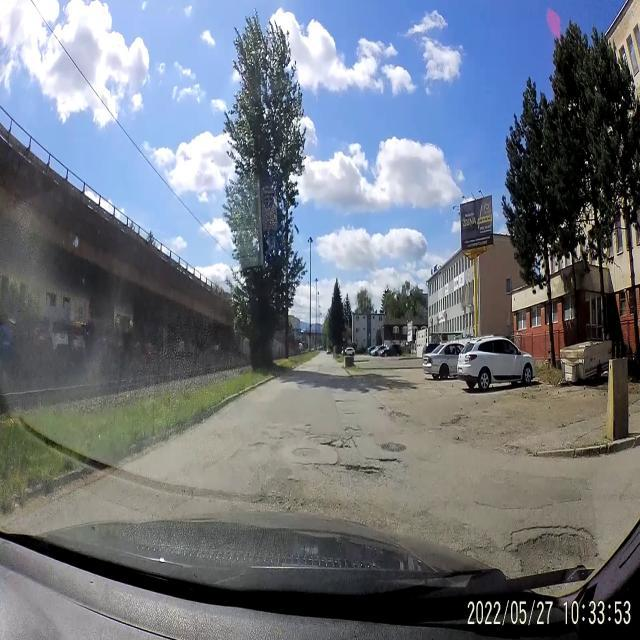Manhole: (380, 436, 408, 458)
Pothole: (508, 518, 596, 572), (337, 460, 385, 480), (292, 443, 320, 465), (304, 428, 331, 446), (331, 436, 353, 452), (343, 422, 363, 438)
